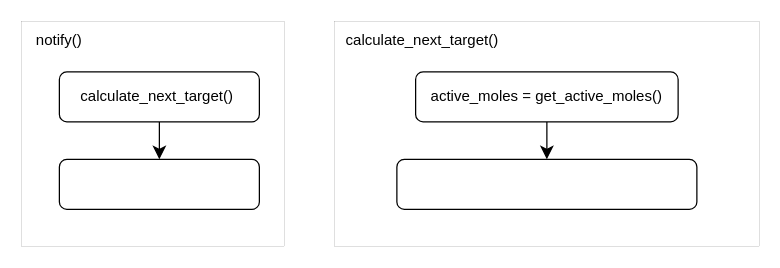
Some shapes in this 780 by 268 pixel diagram are drawn without their labels. The centre of each missing label's shape, as x and y in pixels:
"_target = get_closest_mole(active_moles)" belongs at pixel 546 183.
"set_next_target(_target)" belongs at pixel 158 183.
